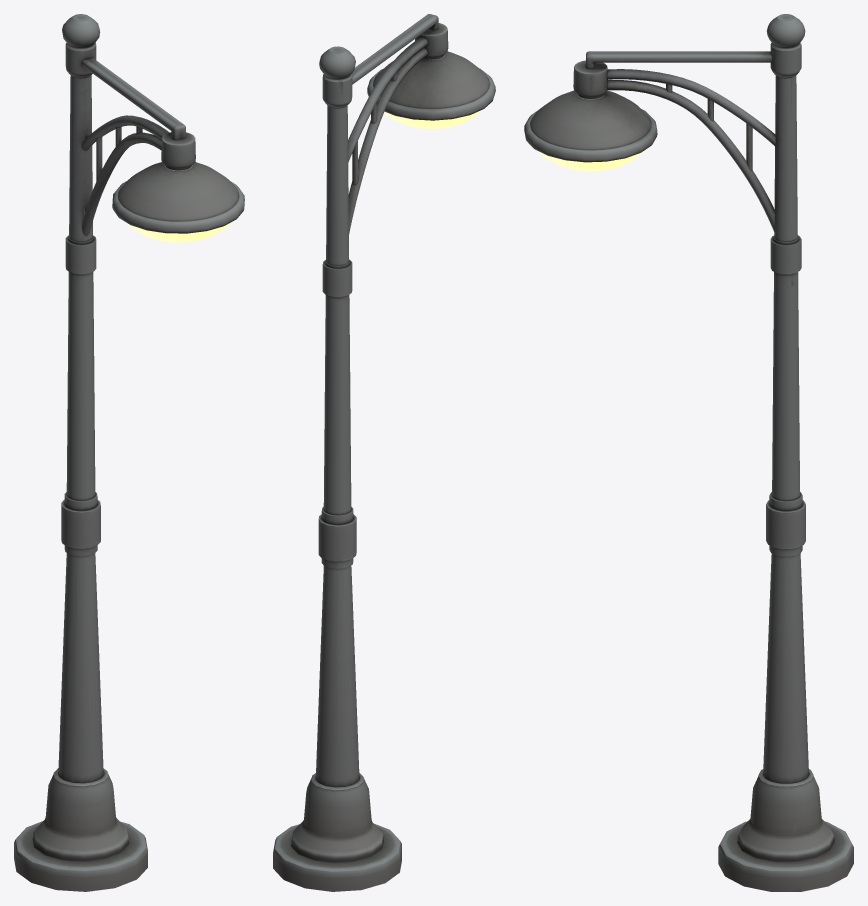
Rendered from lamp.glb.
3 renders of one model, left to right at view 1: azimuth 30°, elevation 25°; view 2: azimuth 150°, elevation 25°; view 3: azimuth 270°, elevation 25°, orthographic. The views are drawn at different scales.
Visible parts, largest first — view 1: SM_Street_Light; view 2: SM_Street_Light; view 3: SM_Street_Light.
Part boxes in pixels (box(x1,y1,x2,y2)): SM_Street_Light: box(14, 14, 244, 891); SM_Street_Light: box(273, 14, 495, 891); SM_Street_Light: box(524, 14, 853, 891).
Bounding box in the file's own units: 0.4273 × 2.99 × 1.06.
2 materials, 2 textured.
